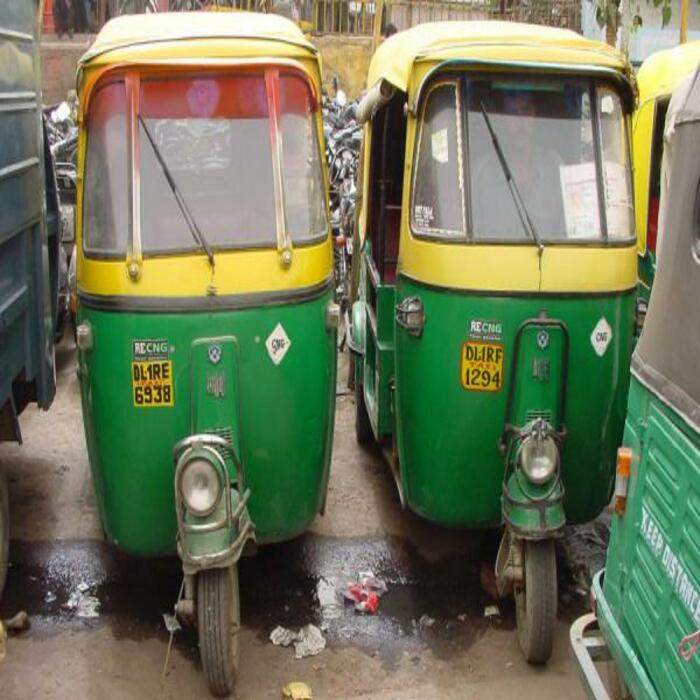n: (458, 342, 507, 392), (134, 361, 171, 404)
